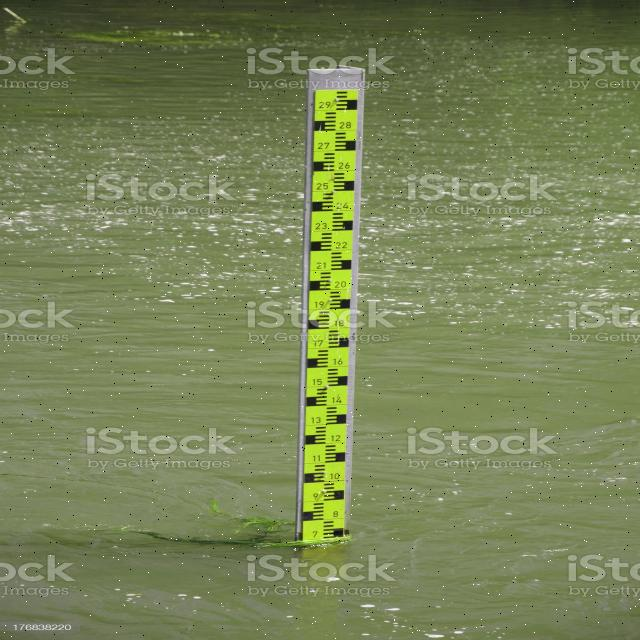staff: (302, 83, 366, 552)
